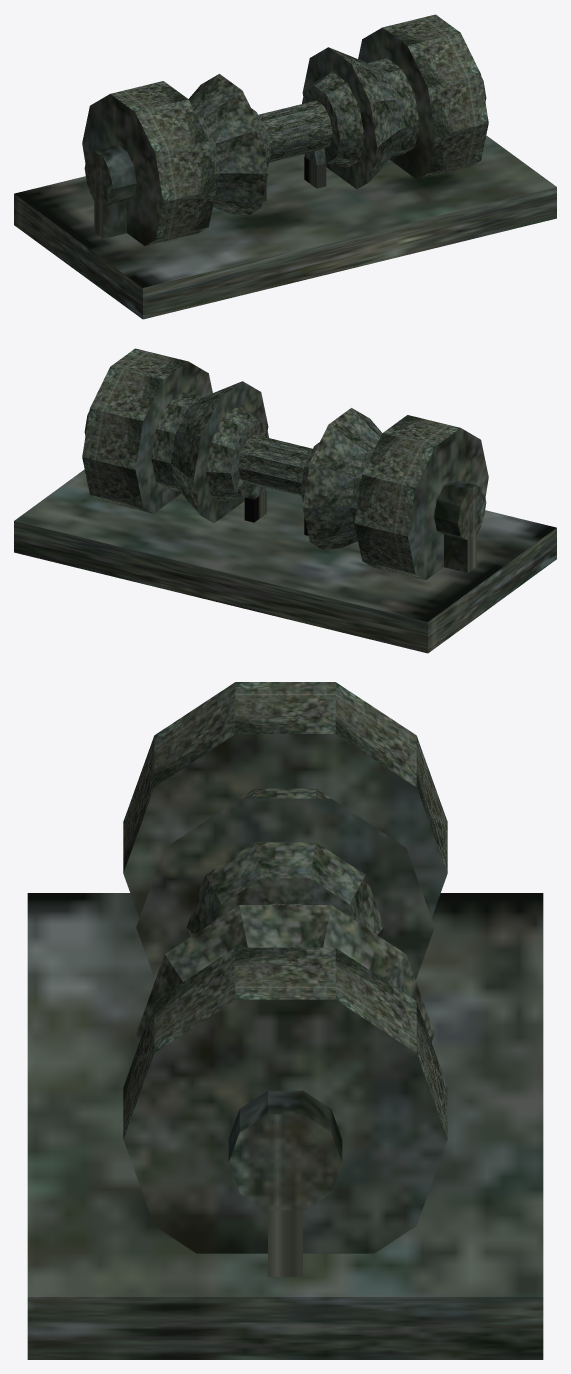
The model's file is Turbine.glb.
The picture shows the model from 3 angles, top to bottom: view 1: azimuth 30°, elevation 25°; view 2: azimuth 150°, elevation 25°; view 3: azimuth 270°, elevation 25°; orthographic projection. The views are drawn at different scales.
Parts seen in each view (by area): view 1: Cylinder, Cube; view 2: Cylinder, Cube; view 3: Cylinder, Cube.
Boxes of the visible parts, left/top/right/bottom form: Cylinder: left=82, top=14, right=488, bottom=245; Cube: left=14, top=135, right=556, bottom=319; Cylinder: left=82, top=348, right=488, bottom=579; Cube: left=14, top=469, right=556, bottom=653; Cylinder: left=123, top=682, right=447, bottom=1276; Cube: left=27, top=893, right=543, bottom=1359.
Bounding box in the file's own units: 3.71 × 1.36 × 2.
2 materials, 2 textured.
